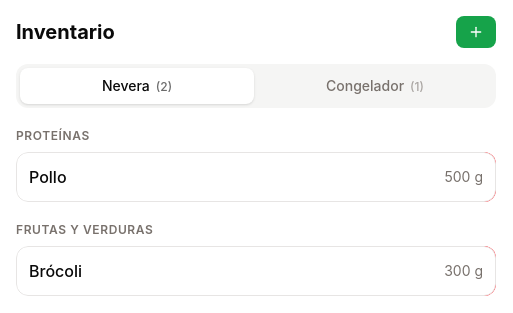
InventoryPage › switches between fridge and freezer tabs
The image size is (513, 313).
Expected: the text "Pollo" is shown, [29,165,67,189]
Click the button "Congelador(1)" at coordinates (375, 86), box [258,68,492,104]
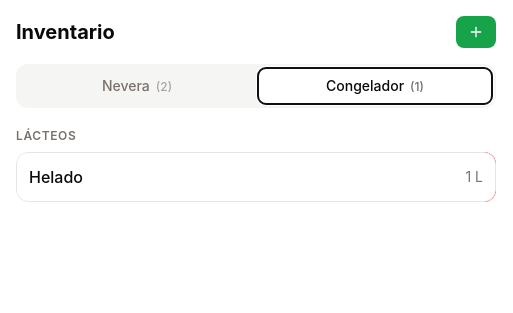
Expected: the text "Helado" is shown, [29,165,83,189]
Expected: the text "Pollo" is gone
